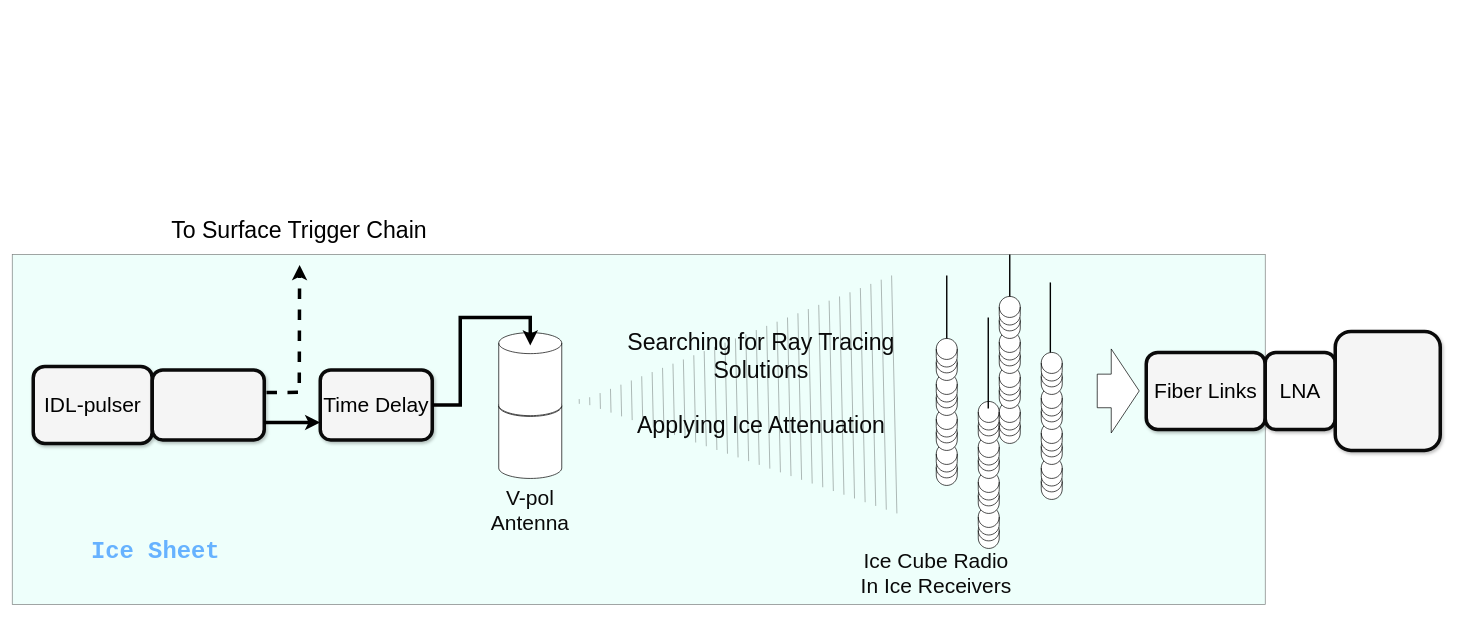
The diagram is 1458 pixels wide and 637 high, and some of its shapes have lost their labels. Each missing label, with the centre of its shape:
"DAQ" belongs at point (1388, 392).
"Tee-splitter" belongs at point (208, 405).
